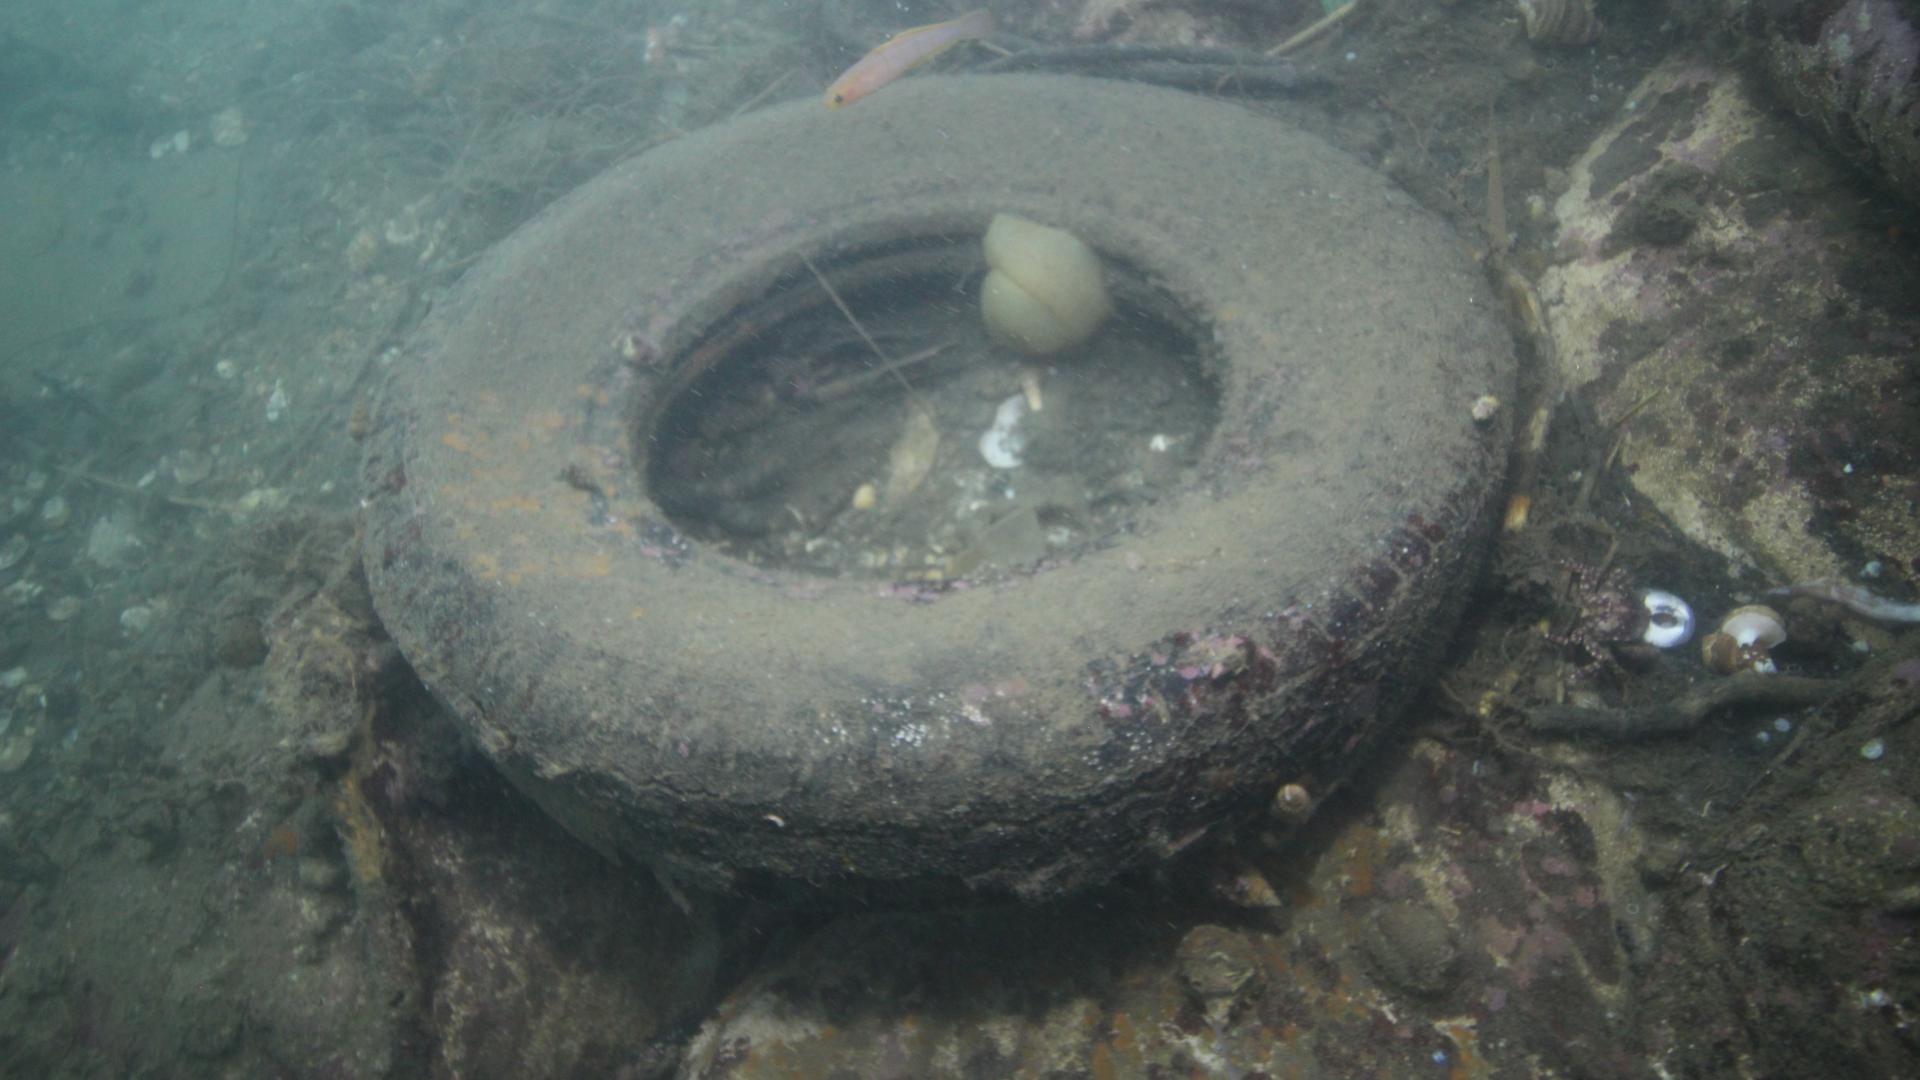tire: (349, 70, 1519, 913)
